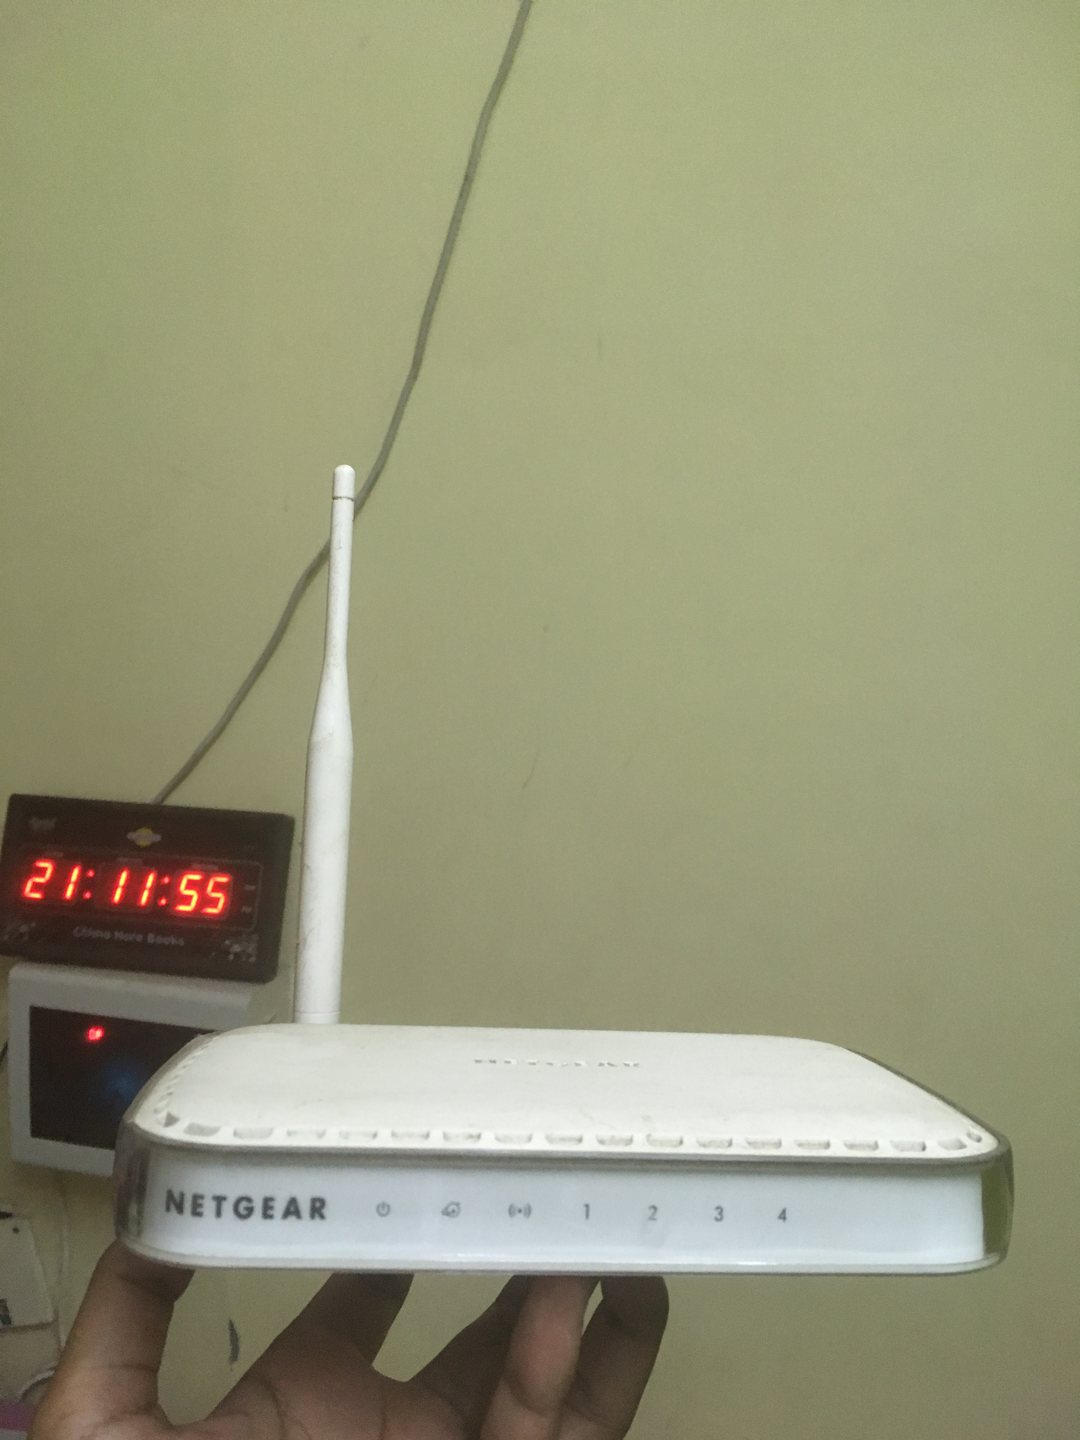NETGEAR: (155, 1178, 334, 1235)
modem: (116, 1112, 1015, 1276)
